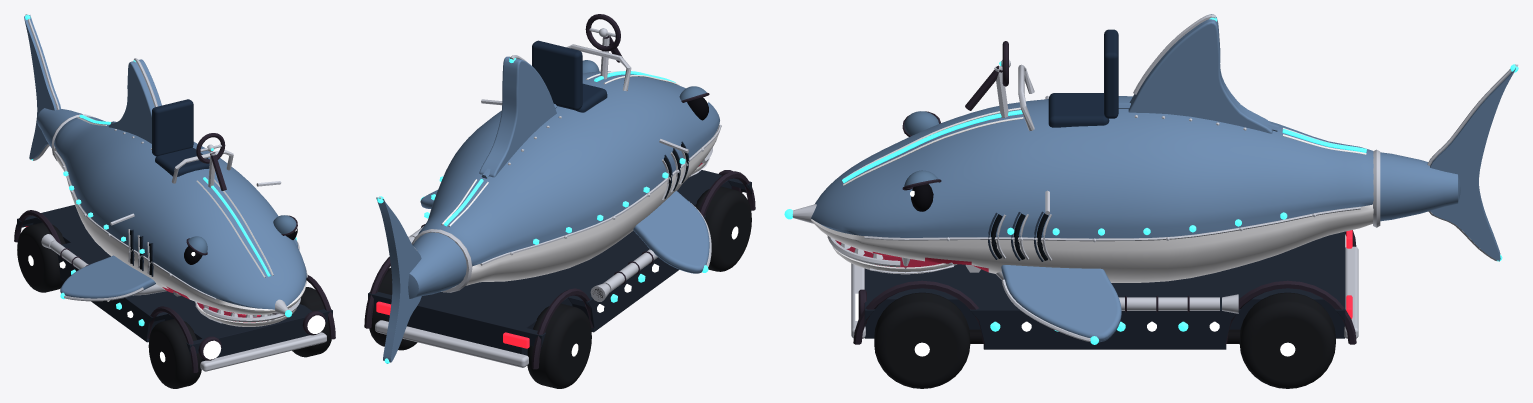
The model's file is dune_chomper.glb.
The picture shows the model from 3 angles, left to right: view 1: azimuth 30°, elevation 25°; view 2: azimuth 150°, elevation 25°; view 3: azimuth 270°, elevation 25°; orthographic projection. The views are drawn at different scales.
Parts seen in each view (by area): view 1: hull, platform, pec_0, wheel_FR_tyre, wheel_RR_tyre, dorsal, seat_back, tail_fin, bumper_1, seat_cushion, wheel_FL_tyre, tail_stock (+13 smaller); view 2: hull, platform, dorsal, pec_0, wheel_RR_tyre, tail_fin, wheel_FR_tyre, tail_stock, seat_back, bumper_0, fender_3, bead_0 (+8 smaller); view 3: hull, platform, wheel_FL_tyre, wheel_RL_tyre, dorsal, pec_1, tail_fin, tail_stock, seat_cushion, bead_1, pipe_1, fender_0 (+7 smaller).
Part boxes in pixels (bbox=[...]): hull: bbox=[54, 116, 306, 314]; platform: bbox=[17, 205, 332, 361]; pec_0: bbox=[60, 255, 155, 298]; wheel_FR_tyre: bbox=[148, 319, 201, 388]; wheel_RR_tyre: bbox=[17, 222, 65, 292]; dorsal: bbox=[108, 59, 161, 143]; seat_back: bbox=[152, 99, 193, 156]; tail_fin: bbox=[24, 15, 60, 159]; bumper_1: bbox=[200, 332, 326, 371]; seat_cushion: bbox=[155, 147, 209, 176]; wheel_FL_tyre: bbox=[292, 287, 331, 357]; tail_stock: bbox=[37, 108, 82, 147]; hull: bbox=[418, 71, 719, 285]; platform: bbox=[368, 170, 751, 355]; dorsal: bbox=[479, 56, 556, 177]; pec_0: bbox=[633, 191, 709, 273]; wheel_RR_tyre: bbox=[527, 303, 591, 388]; tail_fin: bbox=[376, 197, 421, 362]; wheel_FR_tyre: bbox=[695, 186, 751, 271]; tail_stock: bbox=[392, 232, 466, 298]; seat_back: bbox=[532, 40, 582, 110]; bumper_0: bbox=[375, 320, 528, 367]; fender_3: bbox=[531, 288, 593, 369]; bead_0: bbox=[480, 124, 721, 265]; hull: bbox=[811, 96, 1373, 282]; platform: bbox=[864, 231, 1345, 349]; wheel_FL_tyre: bbox=[874, 292, 970, 388]; wheel_RL_tyre: bbox=[1239, 292, 1335, 388]; dorsal: bbox=[1128, 14, 1272, 133]; pec_1: bbox=[1001, 265, 1121, 342]; tail_fin: bbox=[1430, 68, 1515, 260]; tail_stock: bbox=[1380, 152, 1460, 221]; seat_cushion: bbox=[1048, 93, 1109, 127]; bead_1: bbox=[864, 206, 1360, 241]; pipe_1: bbox=[996, 271, 1219, 310]; fender_0: bbox=[853, 280, 984, 344].
Size of the model in its own units: 3.62 by 3.44 by 7.03.
